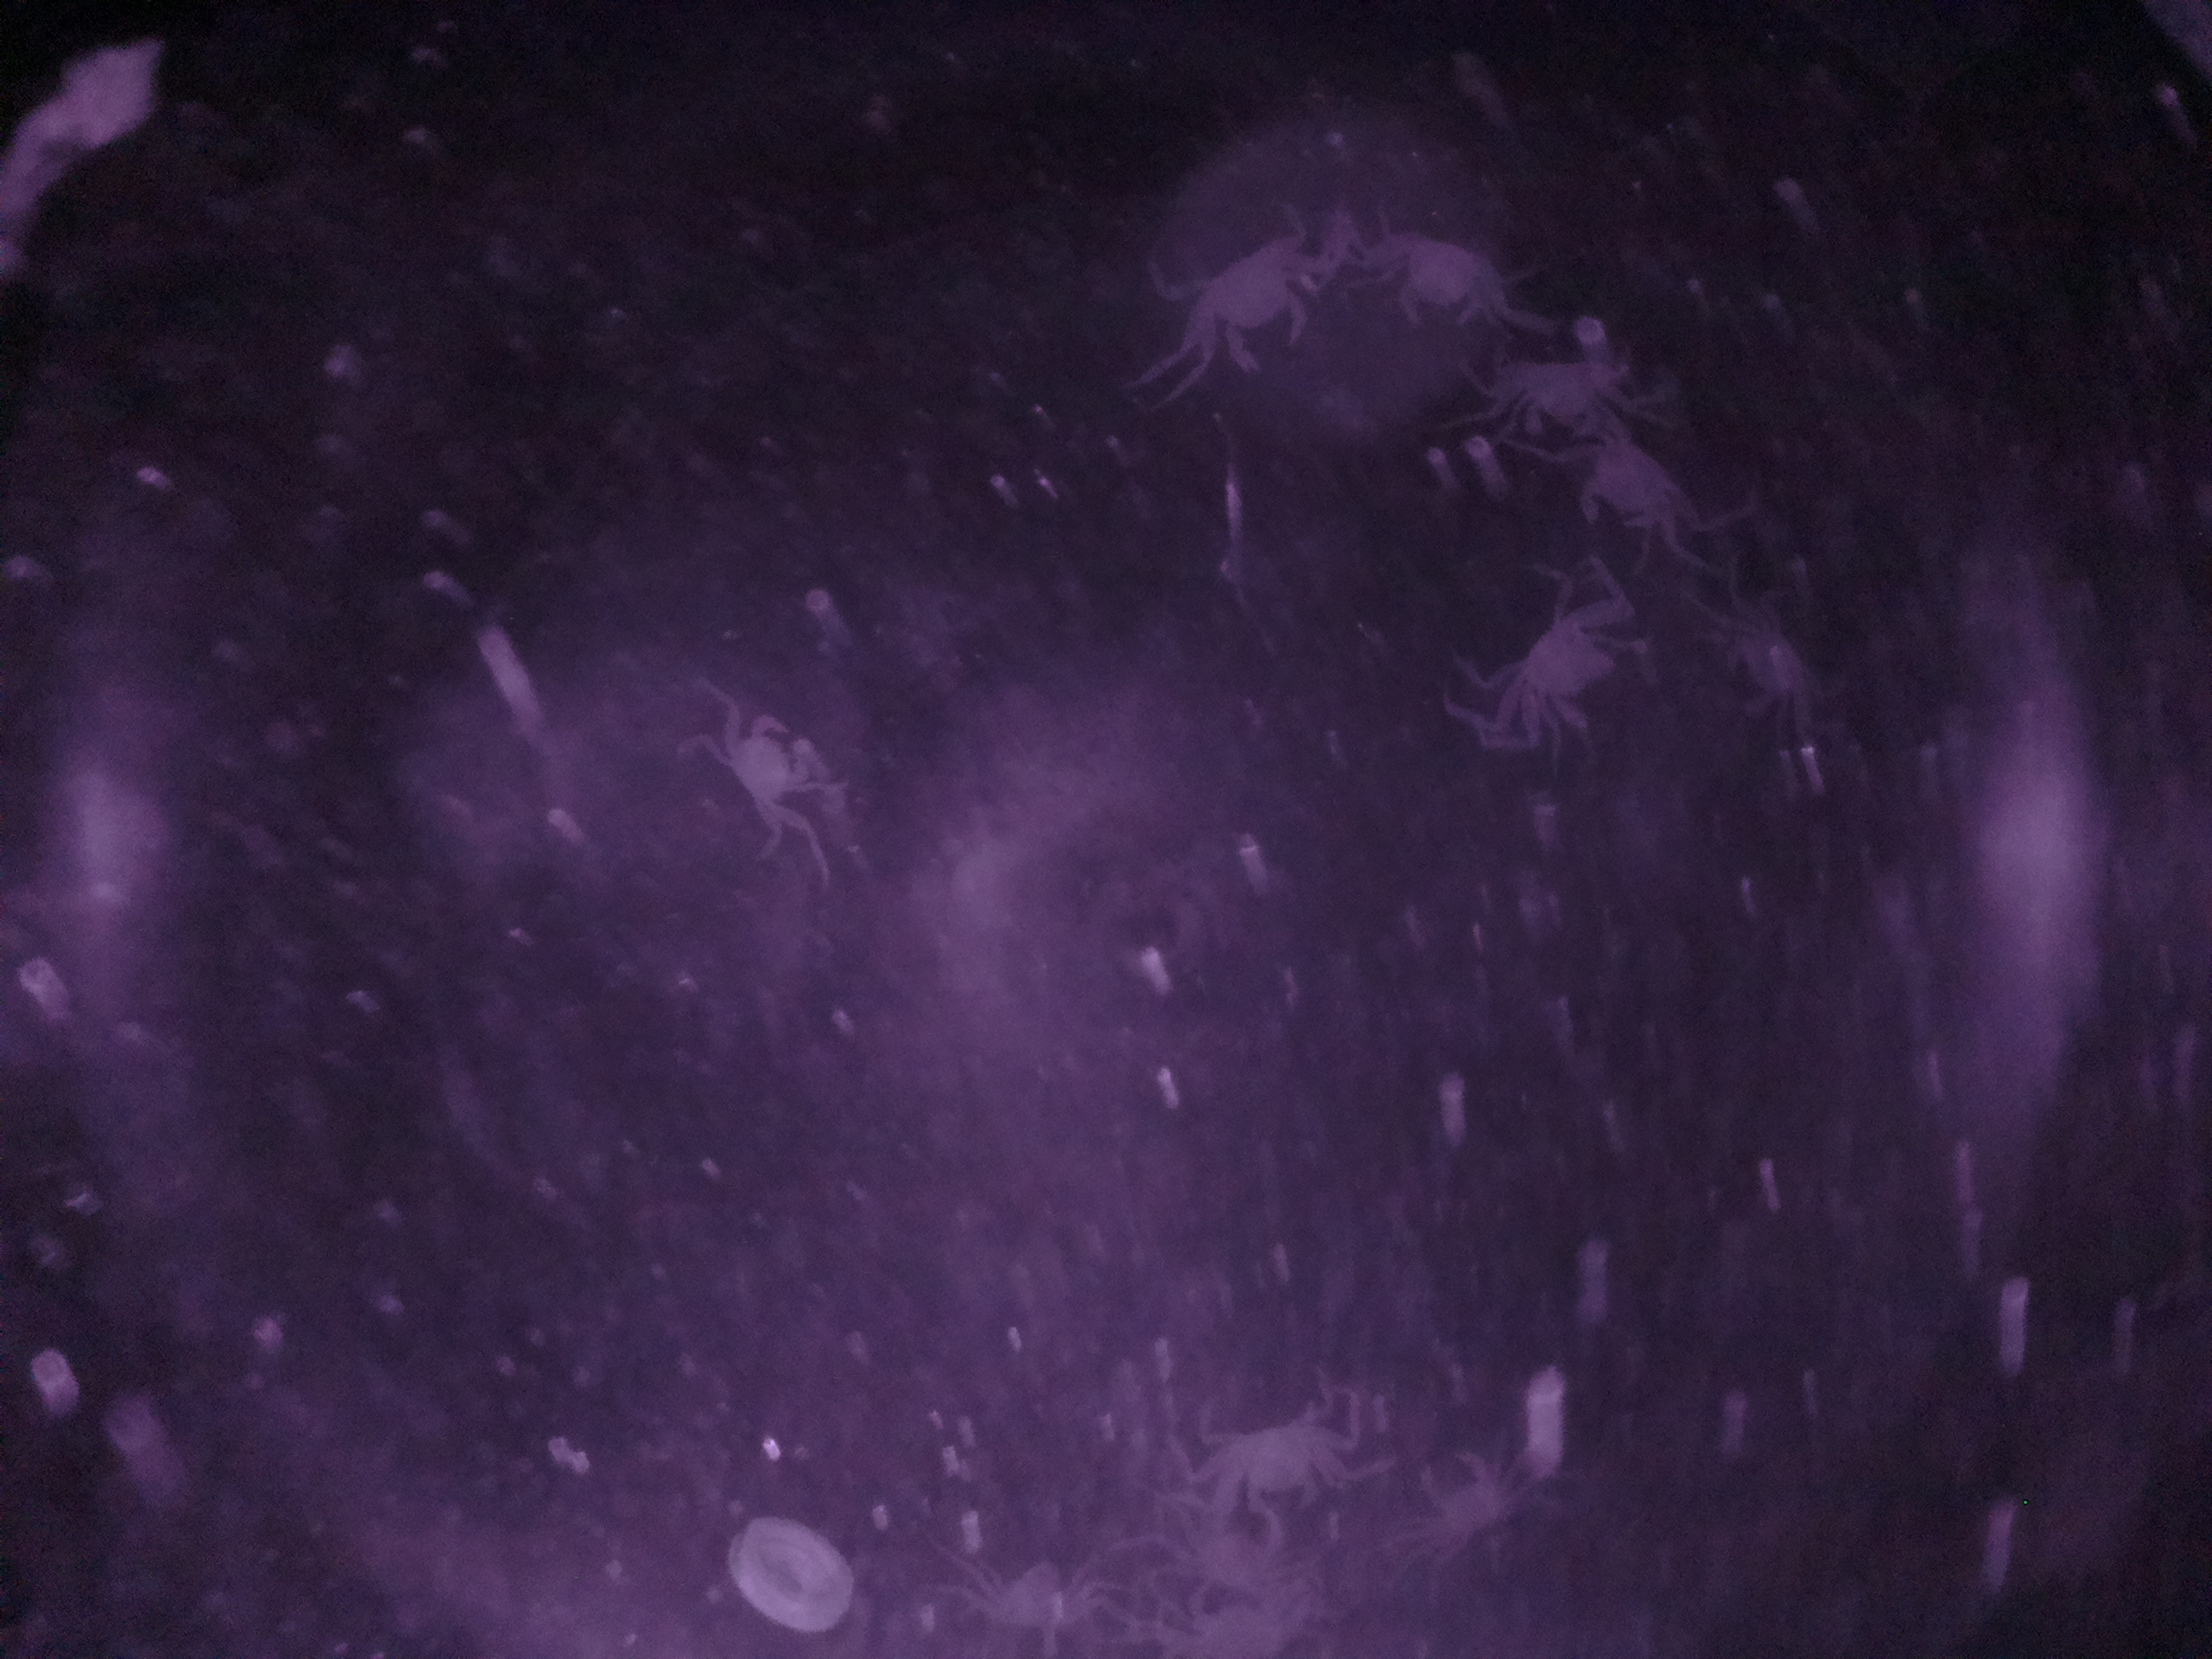Crab: (1137, 190, 1369, 420), (1449, 538, 1658, 784), (676, 666, 867, 875), (1146, 1363, 1409, 1506)
